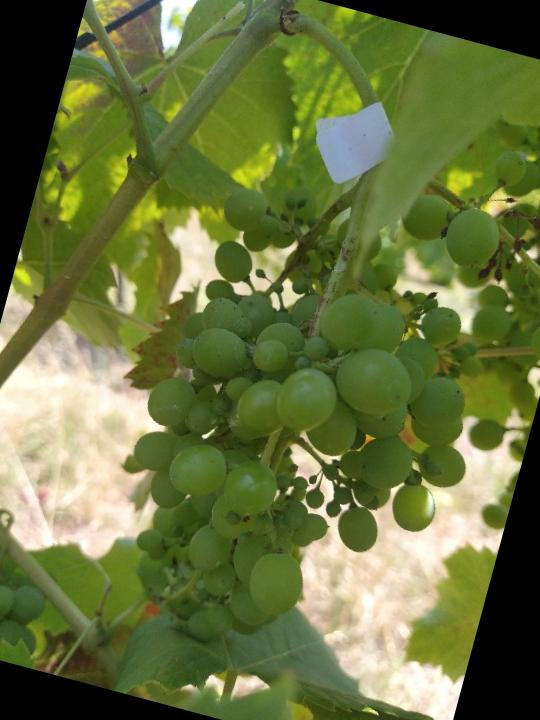grape: (86, 74, 540, 703)
